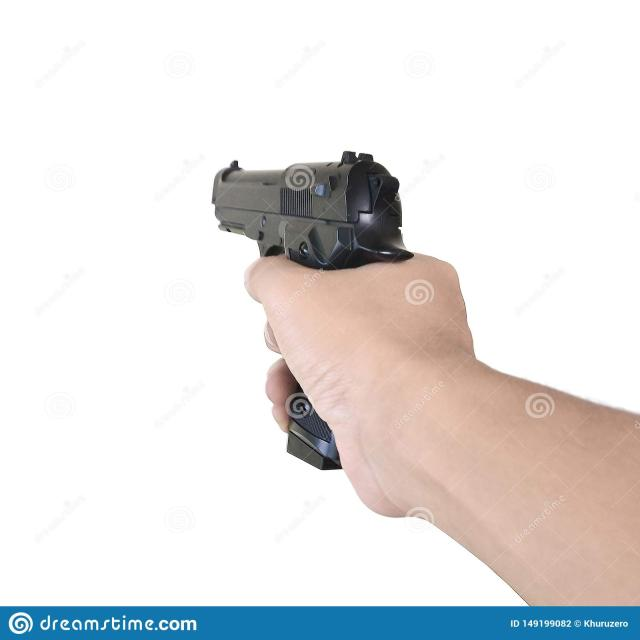HandGun: (211, 152, 414, 271)
